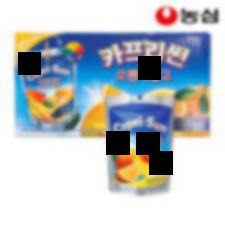cafrisun: (104, 92, 178, 198)
